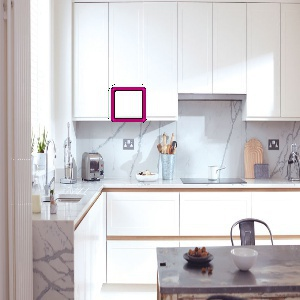square: (109, 84, 148, 124)
